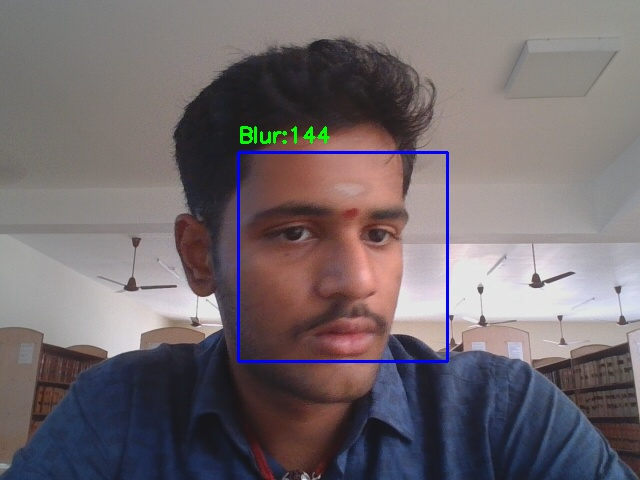real: (238, 152, 447, 361)
